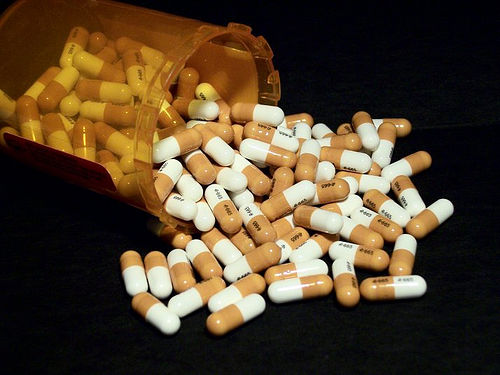pill bottle: (3, 3, 288, 233)
